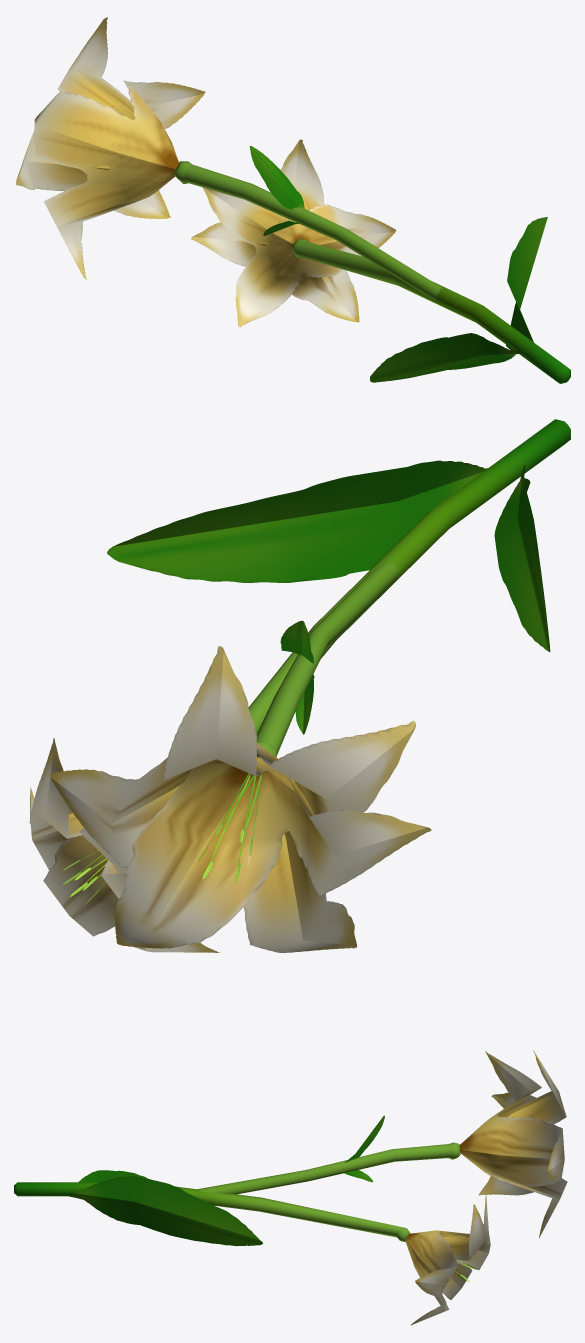
File: SM_Lilly_White_Two.fbx
3 views of the same model, one above another, from view 1: azimuth 30°, elevation 25°; view 2: azimuth 150°, elevation 25°; view 3: azimuth 270°, elevation 25° (orthographic). The views are drawn at different scales.
Parts seen in each view (by area): view 1: Lilly_White_Two; view 2: Lilly_White_Two; view 3: Lilly_White_Two.
Boxes of the visible parts, x1=… form: Lilly_White_Two: x1=16, y1=17, x2=570, y2=383; Lilly_White_Two: x1=29, y1=419, x2=570, y2=952; Lilly_White_Two: x1=14, y1=1050, x2=567, y2=1325.
Size of the model in its own units: 97.23 by 74.62 by 159.
